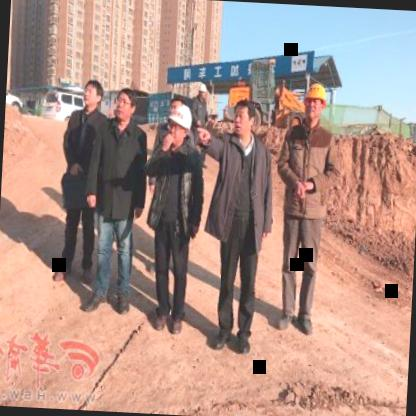helmet: (163, 104, 194, 146), (301, 80, 328, 124), (192, 80, 208, 101)
